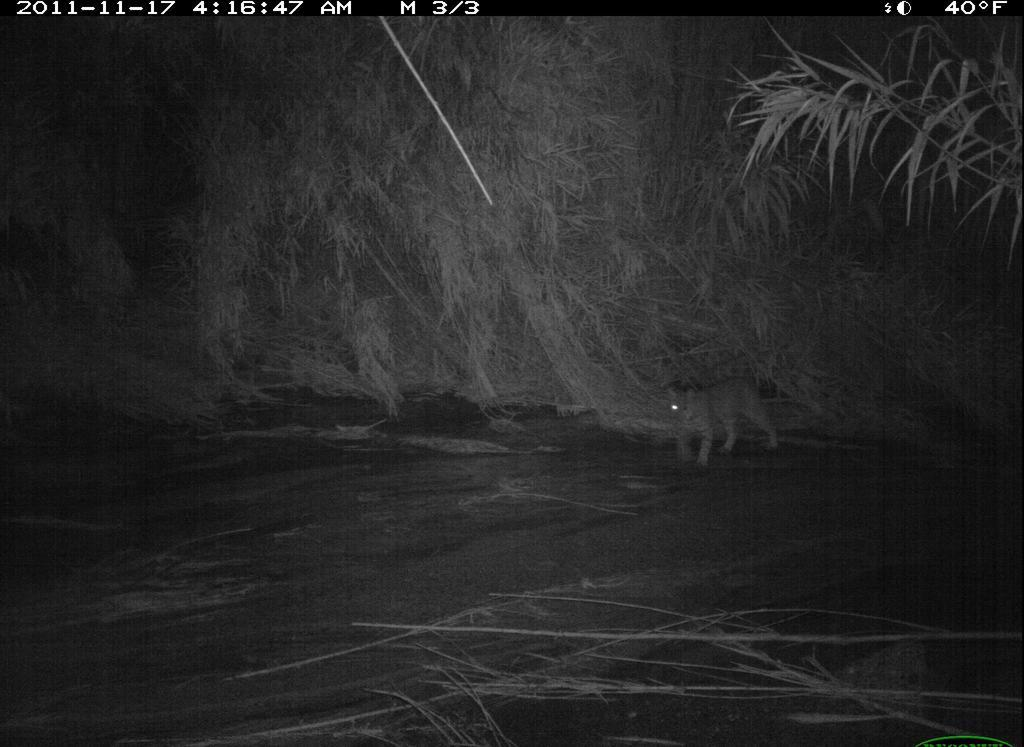bobcat: (644, 376, 798, 475)
